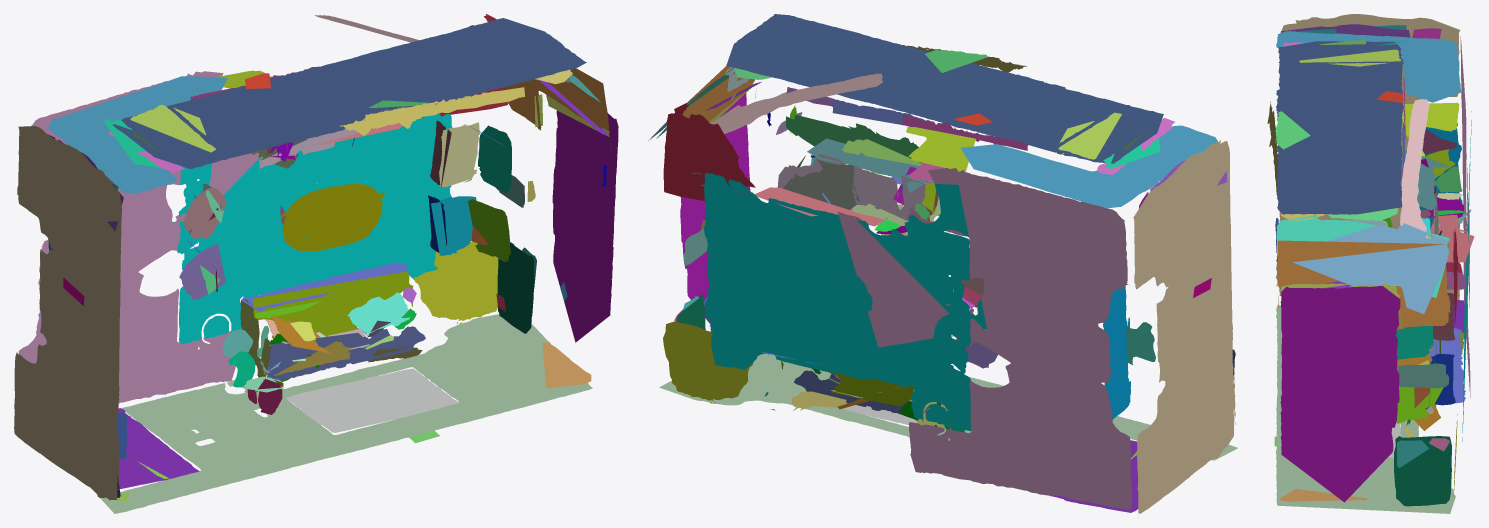
File: room0_np.glb
3 renders of one model, left to right at view 1: azimuth 30°, elevation 25°; view 2: azimuth 150°, elevation 25°; view 3: azimuth 270°, elevation 25°, orthographic. The views are drawn at different scales.
Visible parts, largest first — view 1: world; view 2: world; view 3: world.
Part boxes in pixels (box(x1,y1,x2,y2)): world: box(14, 14, 618, 513); world: box(648, 14, 1237, 513); world: box(1267, 14, 1474, 513).
Size of the model in its own units: 7.77 by 5.22 by 2.94.
